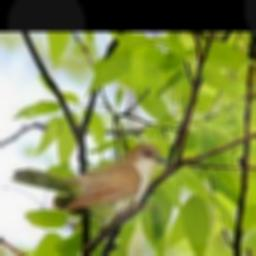Cuckoo: (11, 143, 173, 215)
